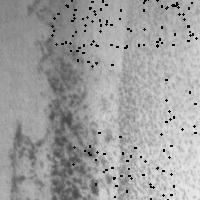pitted_surface: (9, 1, 111, 200), (117, 1, 200, 200), (70, 7, 130, 65), (114, 145, 173, 199), (72, 132, 130, 185), (51, 0, 105, 50), (137, 0, 196, 45), (160, 79, 200, 134)
